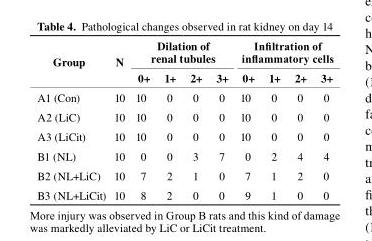table: (36, 37, 332, 202)
table column: (36, 37, 109, 202), (129, 37, 156, 202), (233, 37, 260, 202), (156, 37, 182, 202), (182, 37, 208, 202), (260, 37, 286, 202), (286, 37, 312, 202), (208, 37, 233, 202), (109, 37, 129, 202), (312, 37, 332, 202)
table column header: (36, 37, 332, 87)
table row: (36, 37, 332, 67), (36, 67, 332, 87), (36, 125, 332, 145), (36, 145, 332, 165), (36, 87, 332, 106), (36, 106, 332, 125), (36, 165, 332, 184), (36, 184, 332, 202)
table spanning cell: (36, 37, 109, 87), (129, 37, 233, 67), (233, 37, 332, 67), (109, 37, 129, 87)
